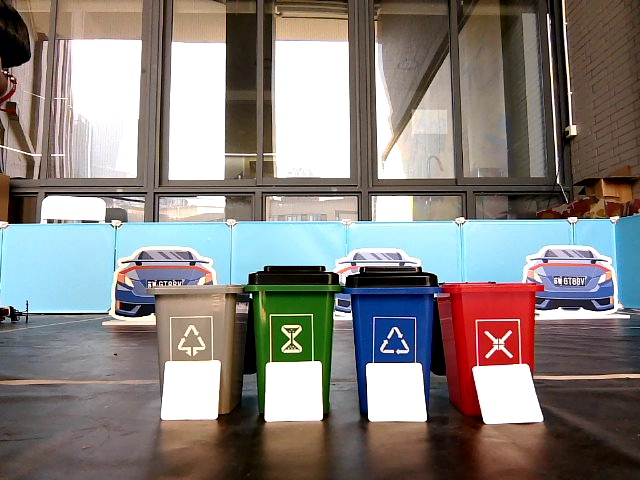blue_close: (349, 266, 425, 358)
green_close: (253, 266, 329, 358)
grey_open: (153, 286, 237, 359)
red_open: (449, 282, 531, 361)
